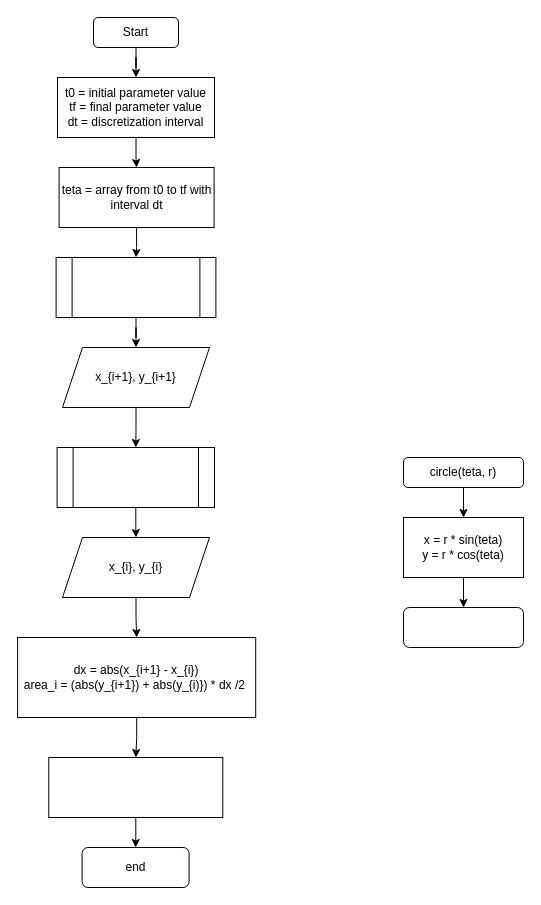
Image size: 541x905. Some labels were removed from this diagram. The box of each missing label's shape, as (x1, y1, x2, y2) in pixels:
circle( teta[0:end-1], 6 ): (55, 256, 216, 318)
circle( teta[1:end], 6 ): (56, 446, 214, 508)
return x, y: (402, 606, 524, 648)
total_area = sum(area_i): (48, 756, 223, 818)
